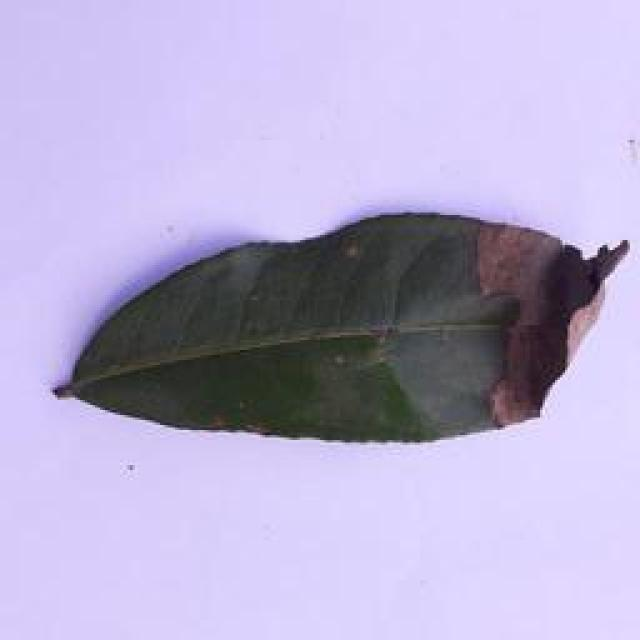Brown Blight: (44, 212, 636, 457)
